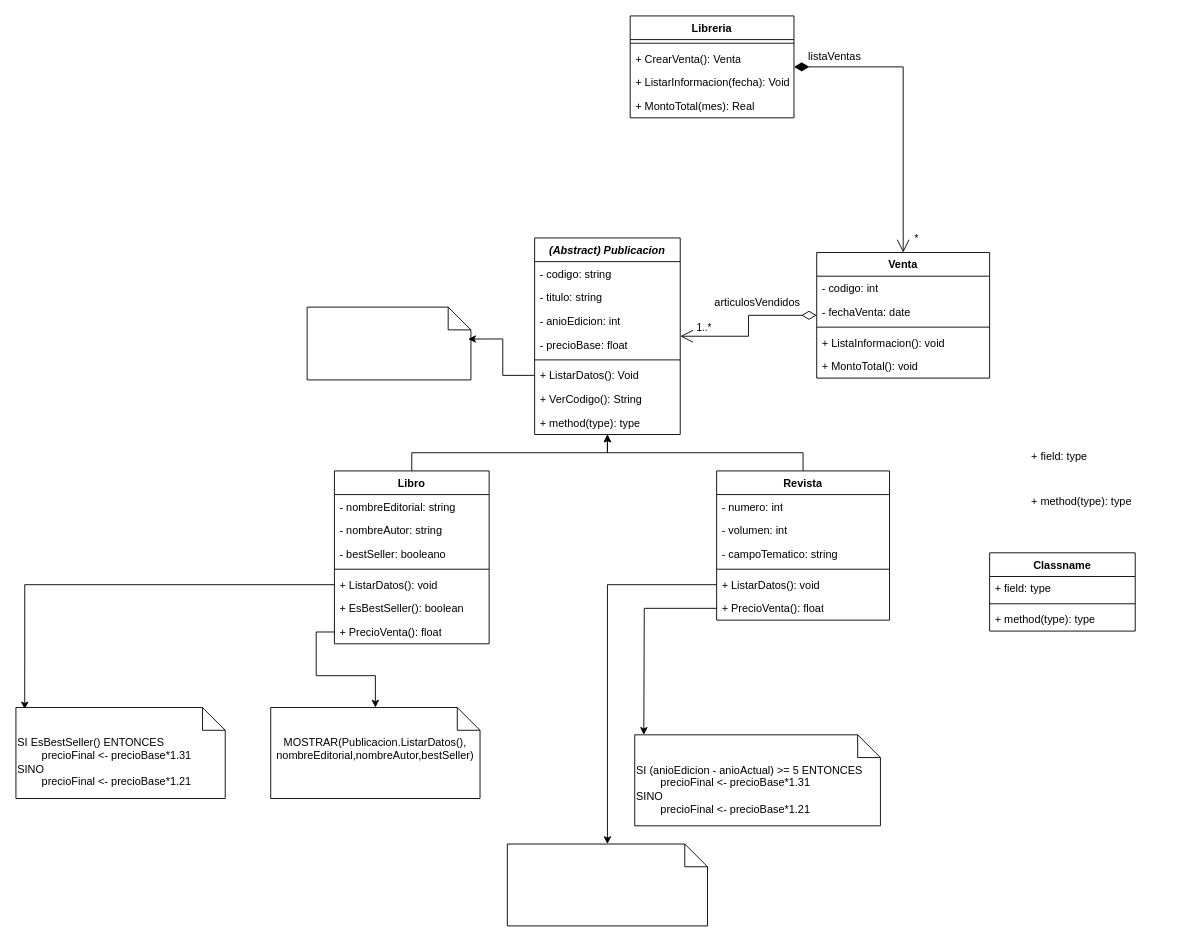
Image size: 1188x942. Some labels were removed from this diagram. The centre of each missing label's shape, as x and y in pixels:
MOSTRAR(codigo, titulo,anioEdicion,precioBase): (x=388, y=343)
MOSTRAR(Publicacion.ListarDatos(), numero, volumen,campoTematico): (x=607, y=884)
